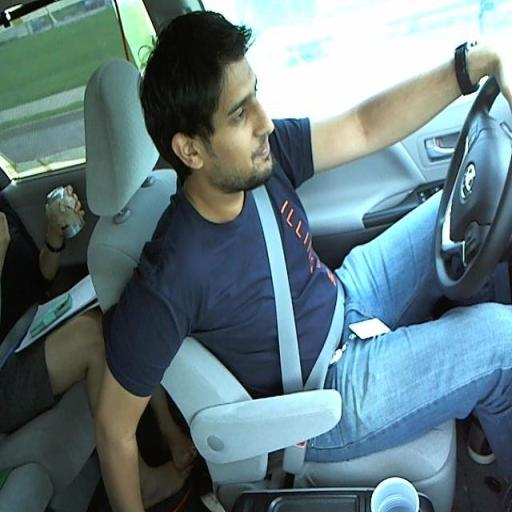turning: (122, 7, 512, 381)
